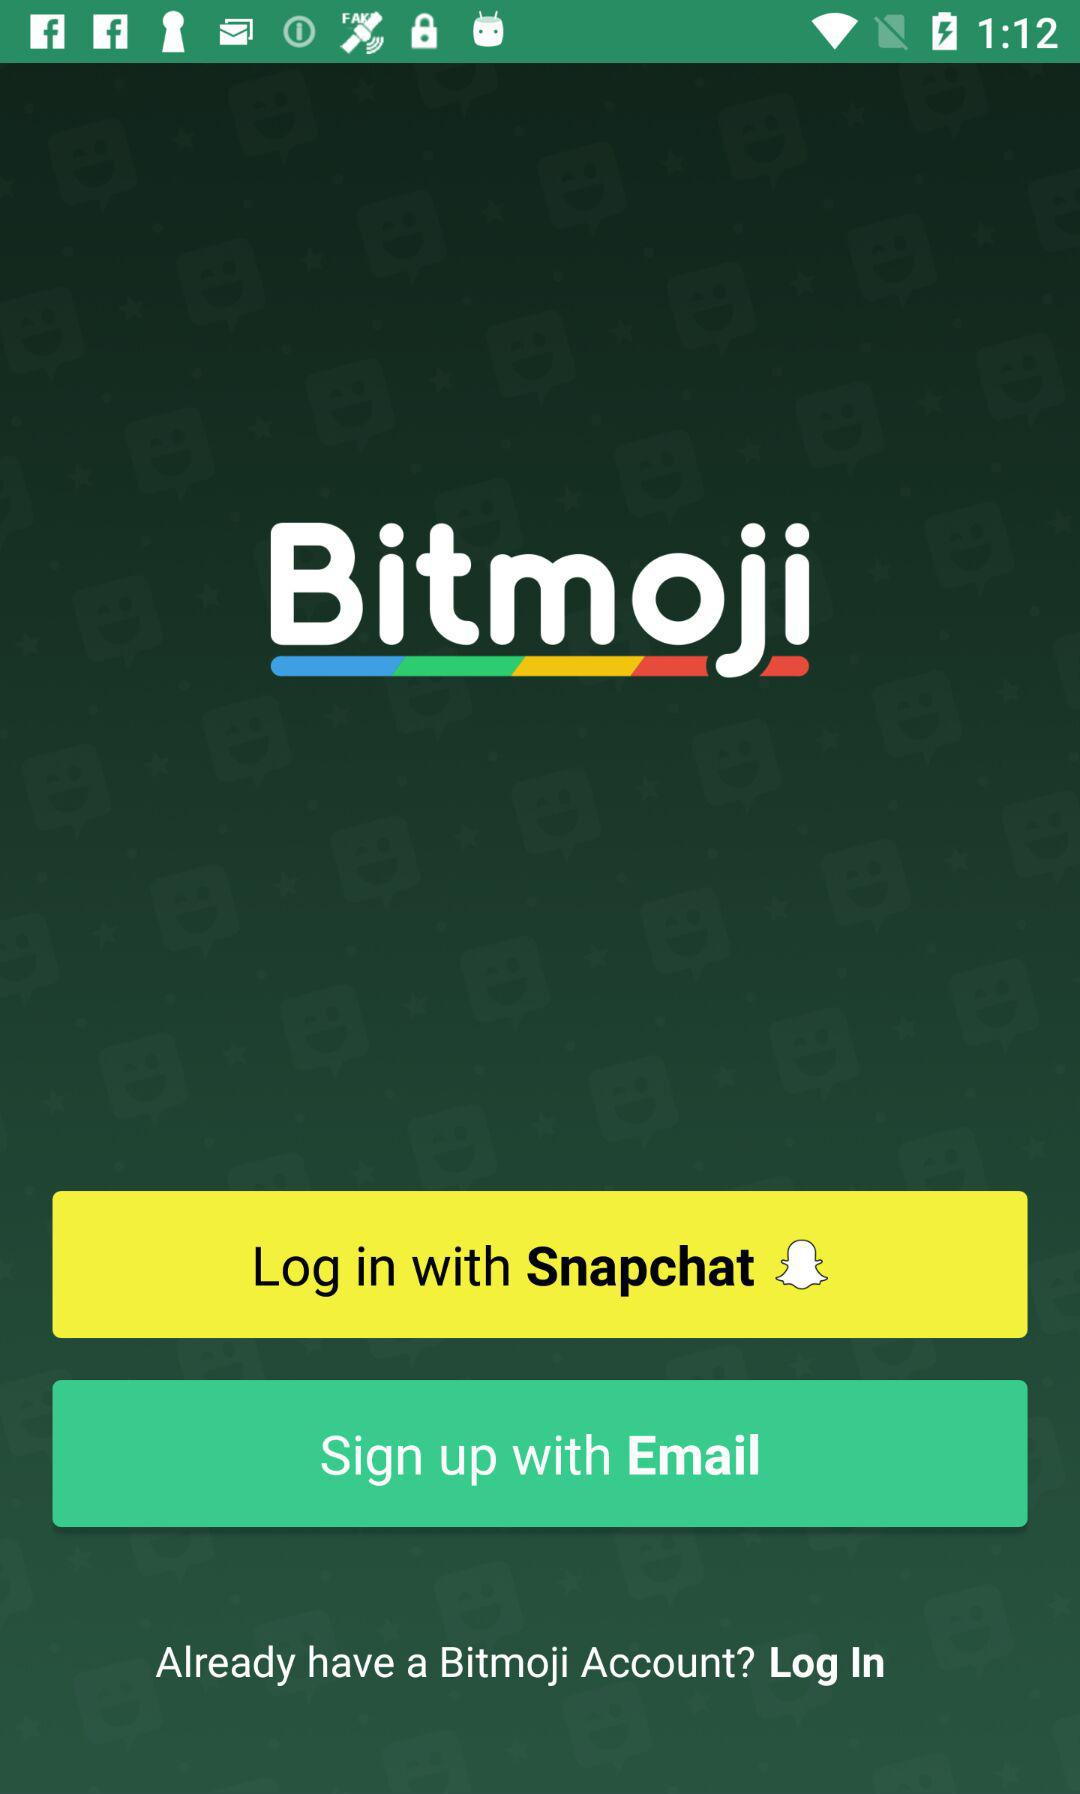Image: (270, 522, 811, 680)
Text: (156, 1644, 885, 1686)
TextButton: (53, 1190, 1027, 1339), (53, 1380, 1029, 1527)
UpperTaskBar: (1, 1, 1080, 64)
